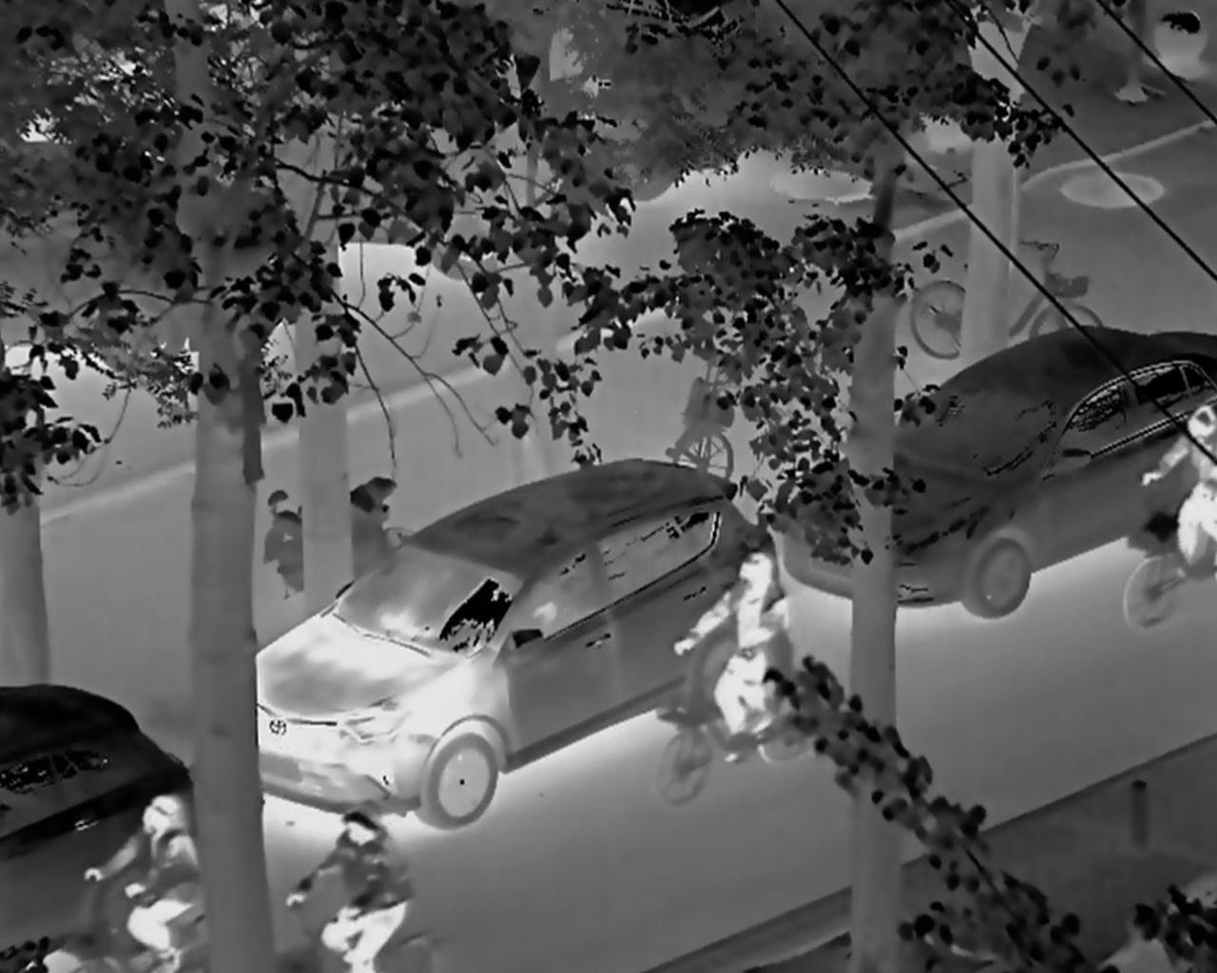person: (683, 553, 784, 781), (285, 810, 412, 973), (81, 791, 207, 952), (1136, 396, 1217, 599)
